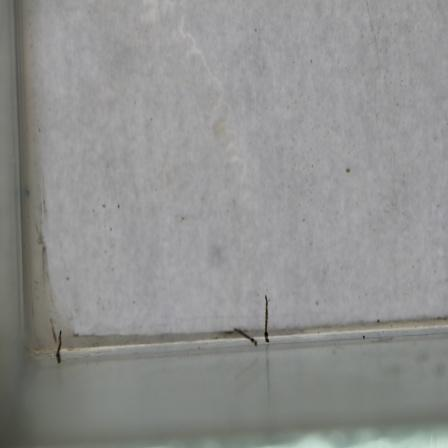Jentik-Nyamuk: (260, 293, 278, 346), (49, 328, 68, 368), (229, 325, 259, 348)
